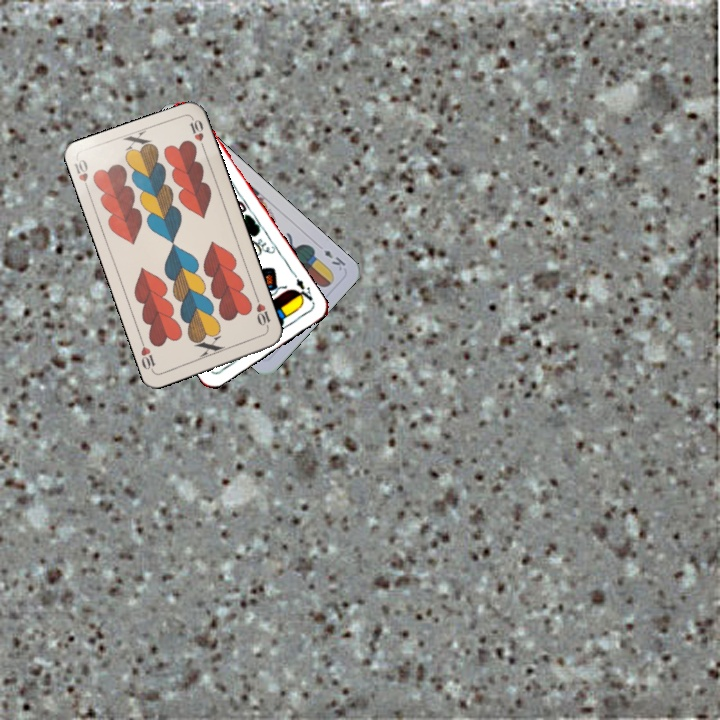EA: (289, 269, 316, 306)
EK: (320, 246, 348, 273)
H10: (70, 155, 92, 195), (252, 293, 273, 332)
